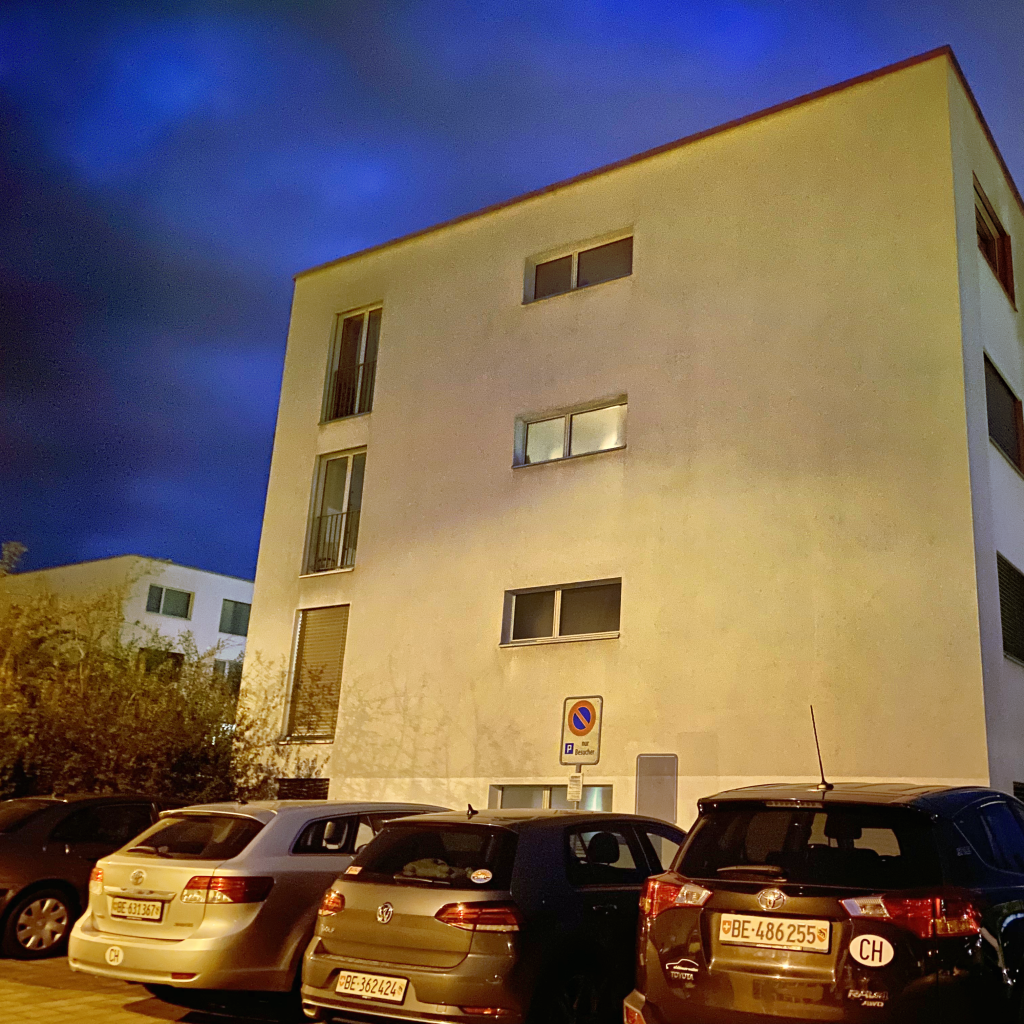glass_panel: (559, 581, 619, 635), (570, 404, 626, 454), (577, 237, 632, 286), (511, 591, 553, 639), (525, 416, 565, 464), (534, 255, 571, 298)
